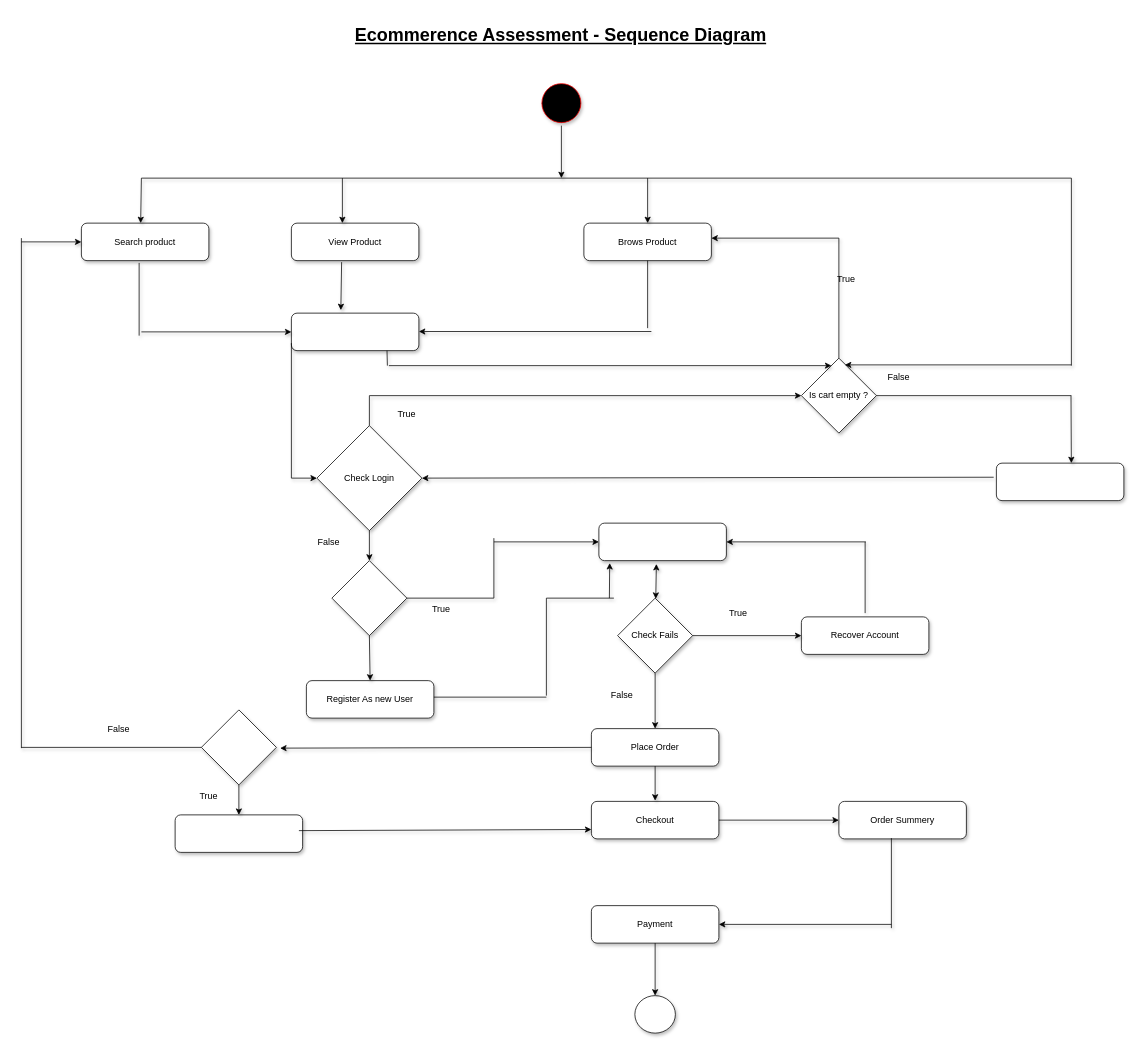
The diagram is 1142 pixels wide and 1052 high, and some of its shapes have lost their labels. The centre of each missing label's shape, as x and y in pixels:
"Add to Cart" belongs at [355,332].
"Check Registration" belongs at [369,599].
"Login" belongs at [663,542].
"Pending Orders?" belongs at [239,748].
"View Cart" belongs at [1060,482].
"View Orders" belongs at [239,834].
